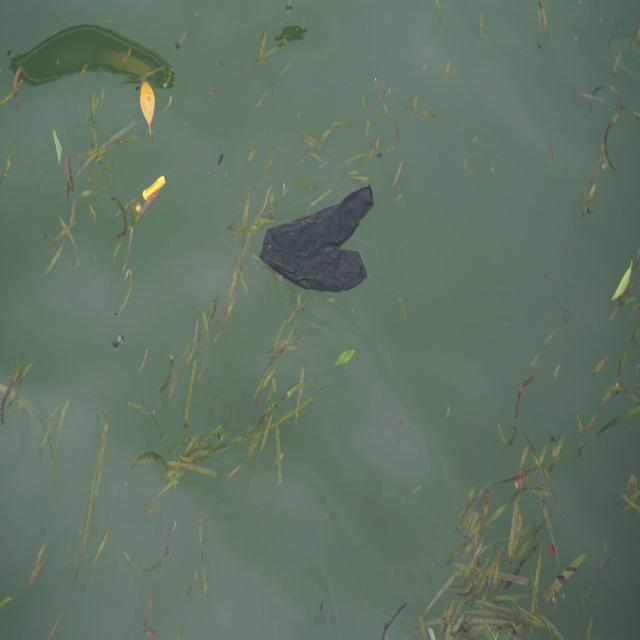Kantong Plastik: (259, 182, 375, 299)
